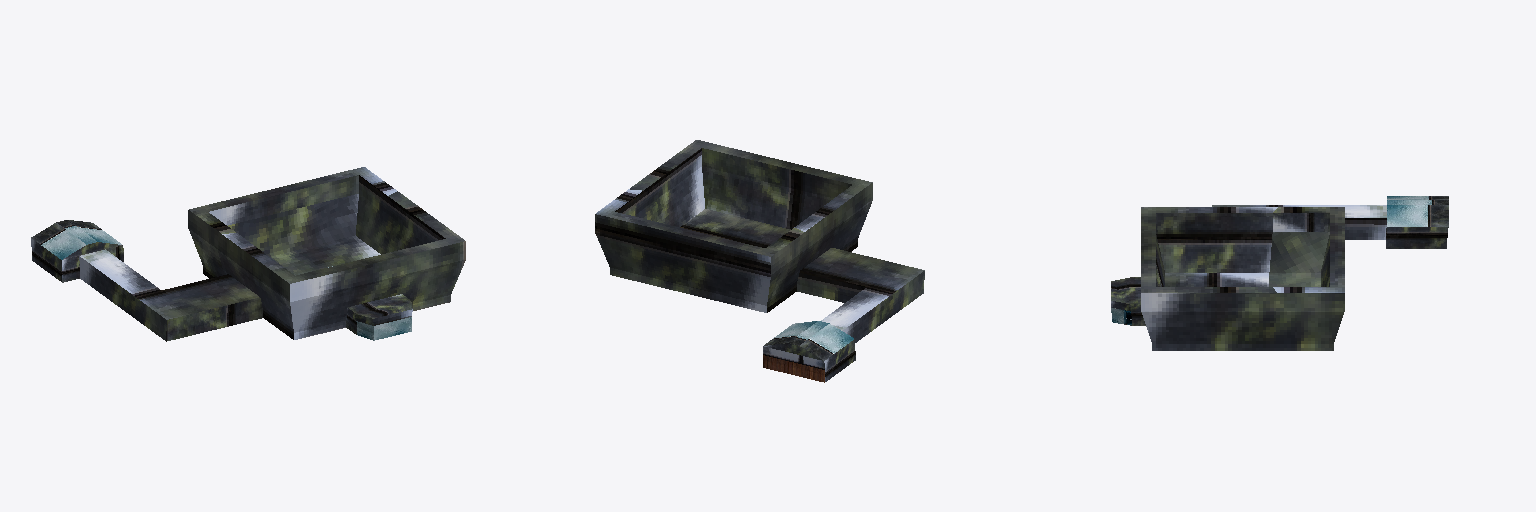
3 renders of one model, left to right at view 1: azimuth 30°, elevation 25°; view 2: azimuth 150°, elevation 25°; view 3: azimuth 270°, elevation 25°, orthographic.
Visible parts, largest first — view 1: Cube.001_Cube.002; view 2: Cube.001_Cube.002; view 3: Cube.001_Cube.002.
Part boxes in pixels (bbox=[...]): Cube.001_Cube.002: bbox=[31, 167, 465, 341]; Cube.001_Cube.002: bbox=[595, 140, 924, 382]; Cube.001_Cube.002: bbox=[1111, 196, 1448, 350].
Size of the model in its own units: 31.9 by 6.8 by 33.1.
1 materials, 1 textured.